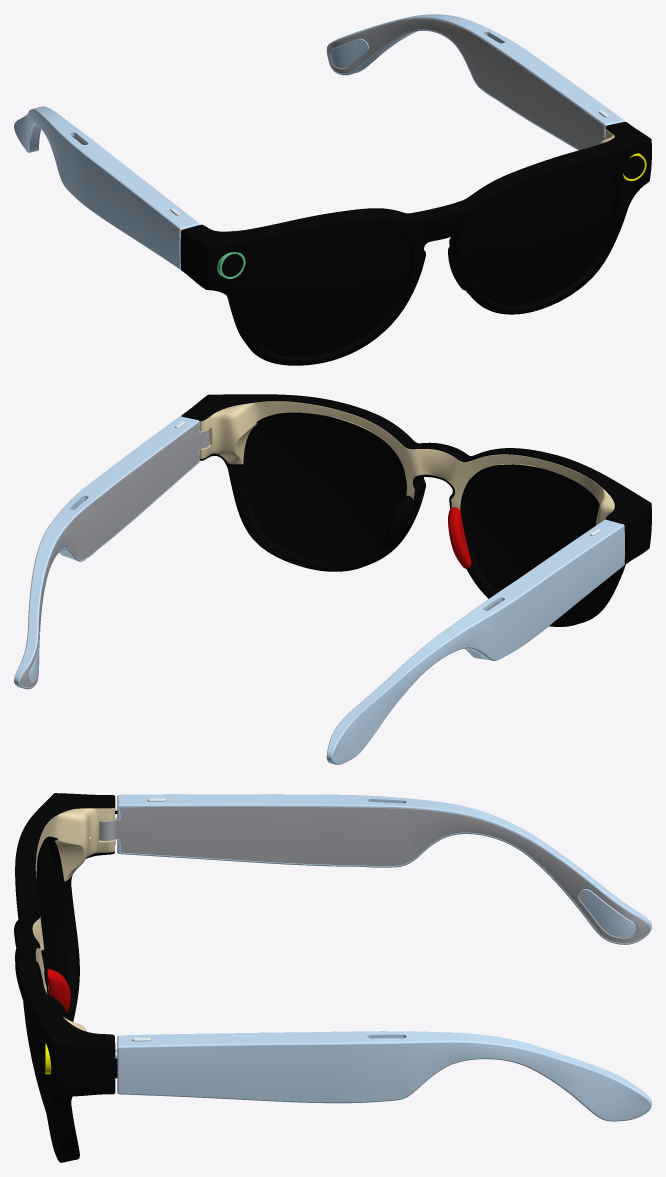
Rendered from glasses-original.glb.
The picture shows the model from 3 angles, top to bottom: view 1: azimuth 30°, elevation 25°; view 2: azimuth 150°, elevation 25°; view 3: azimuth 270°, elevation 25°; orthographic projection. The views are drawn at different scales.
Size of the model in its own units: 0.1537 by 0.0513 by 0.1634.
